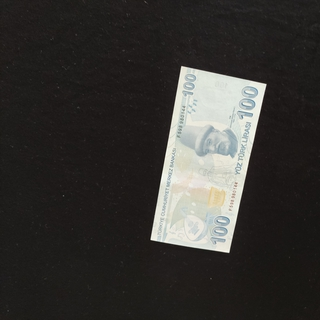100TLBack: (150, 65, 267, 253)
